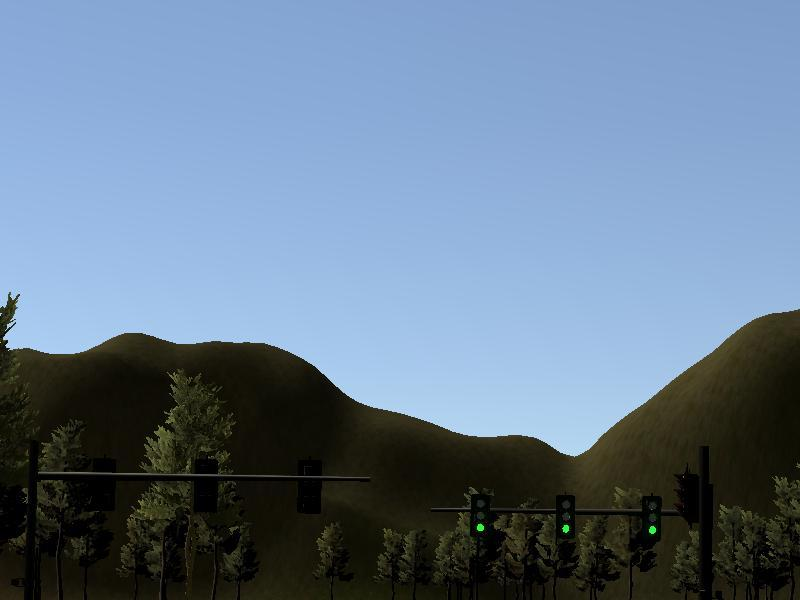Green: (642, 495, 661, 543), (471, 495, 491, 539), (556, 494, 574, 541)
